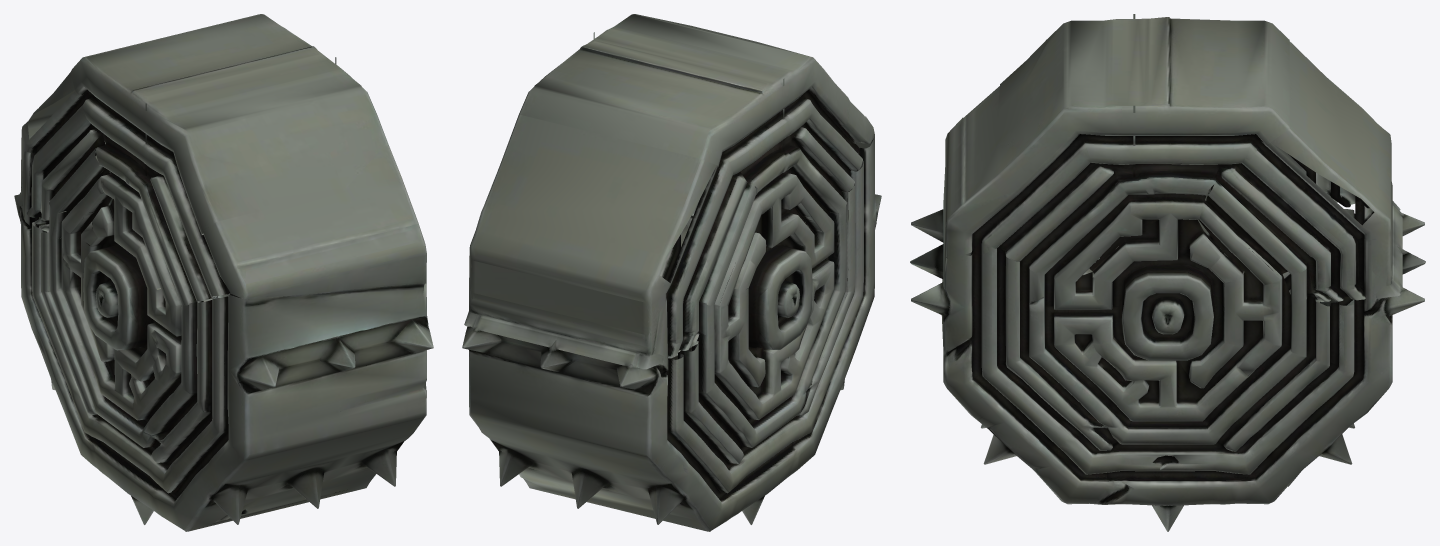
The model's file is labyrinth_shield.fbx.
3 renders of one model, left to right at view 1: azimuth 30°, elevation 25°; view 2: azimuth 150°, elevation 25°; view 3: azimuth 270°, elevation 25°, orthographic.
Visible parts, largest first — view 1: tripo_node_2be5a269; view 2: tripo_node_2be5a269; view 3: tripo_node_2be5a269.
Part boxes in pixels (x1,y1,x2,y2): tripo_node_2be5a269: (14,14,433,531); tripo_node_2be5a269: (462,14,881,531); tripo_node_2be5a269: (910,14,1425,531).
Size of the model in its own units: 0.5451 by 0.9281 by 0.9984.
